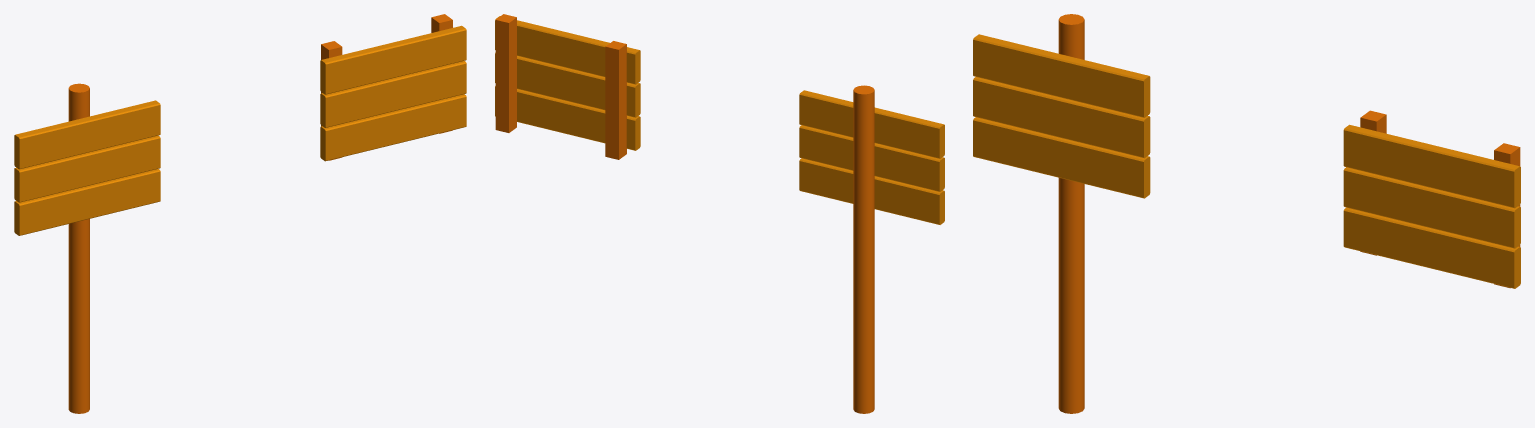
Rendered from Sign.fbx.
3 renders of one model, left to right at view 1: azimuth 30°, elevation 25°; view 2: azimuth 150°, elevation 25°; view 3: azimuth 330°, elevation 25°, orthographic. The views are drawn at different scales.
Parts seen in each view (by area): view 1: Cube, Cube.001, Cylinder, Cube.006; view 2: Cube, Cube.001, Cylinder, Cube.006; view 3: Cube.001, Cube, Cylinder, Cube.006.
Boxes of the visible parts, bbox=[...] form: Cube: bbox=[14, 100, 160, 235]; Cube.001: bbox=[320, 25, 466, 161]; Cylinder: bbox=[68, 83, 89, 413]; Cube.006: bbox=[321, 14, 452, 160]; Cube: bbox=[799, 90, 944, 224]; Cube.001: bbox=[495, 16, 640, 150]; Cylinder: bbox=[853, 85, 874, 413]; Cube.006: bbox=[495, 14, 626, 159]; Cube.001: bbox=[1343, 124, 1520, 288]; Cube: bbox=[973, 34, 1150, 198]; Cylinder: bbox=[1058, 14, 1084, 413]; Cube.006: bbox=[1360, 110, 1520, 288].
Bounding box in the file's own units: 3795 × 2606 × 238.
